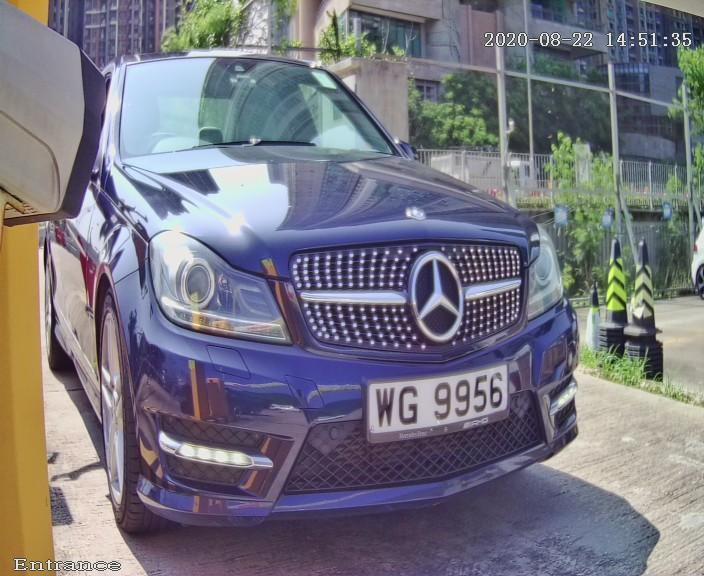Car: (19, 13, 613, 559)
License Plate: (343, 343, 529, 457)
